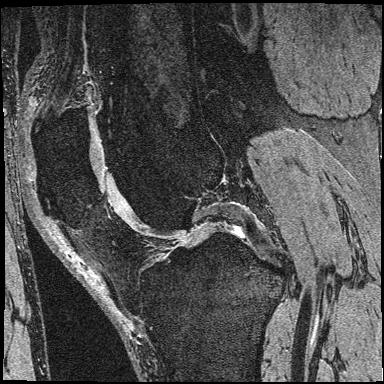SagKneeJointArea: (31, 105, 287, 323)
